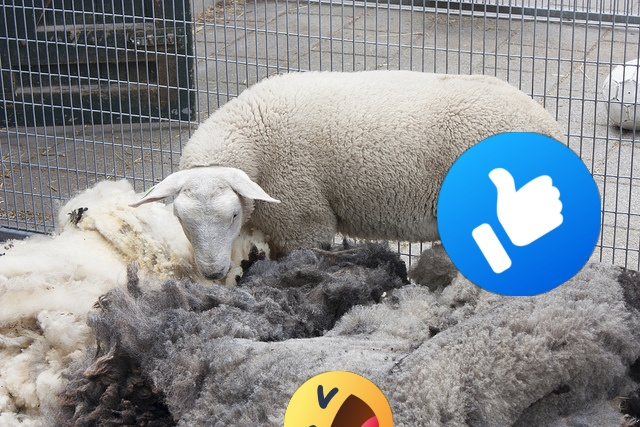haha: (284, 371, 393, 427)
like: (437, 132, 601, 296)
